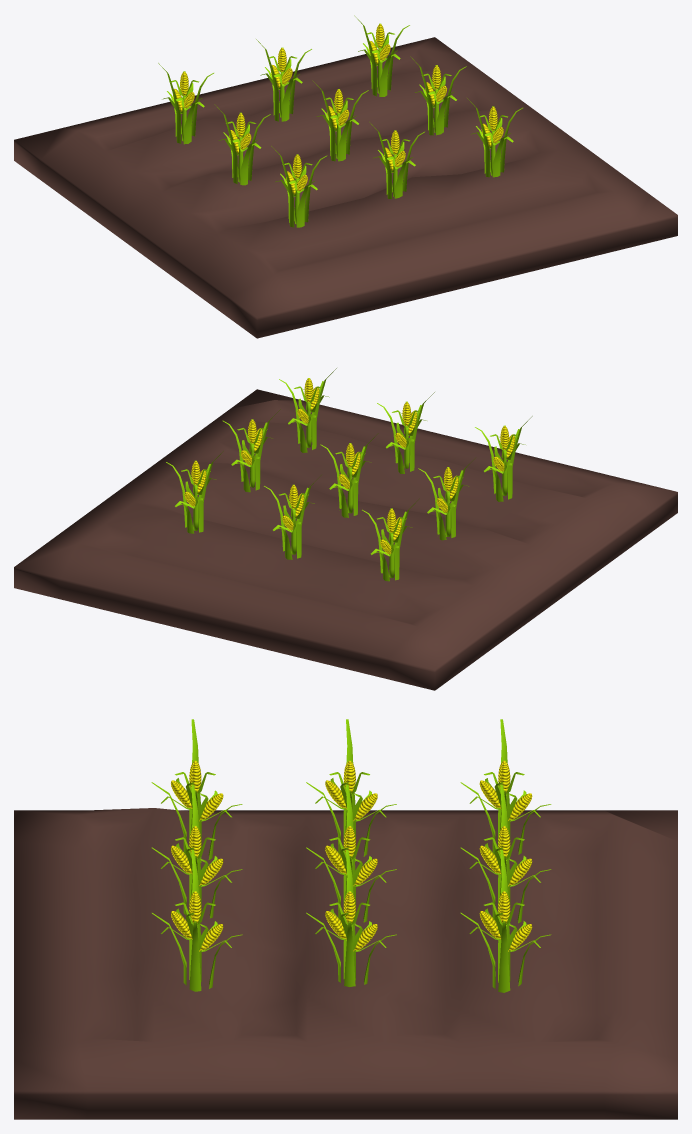
File: TheCornFarm.fbx
The picture shows the model from 3 angles, top to bottom: view 1: azimuth 30°, elevation 25°; view 2: azimuth 150°, elevation 25°; view 3: azimuth 270°, elevation 25°; orthographic projection. The views are drawn at different scales.
Visible parts, largest first — view 1: Plane.021, Plane.010; view 2: Plane.021, Plane.010; view 3: Plane.021, Plane.010.
Part boxes in pixels (x1=…): Plane.021: x1=14, y1=37, x2=677, y2=338; Plane.010: x1=158, y1=15, x2=522, y2=227; Plane.021: x1=14, y1=389, x2=677, y2=690; Plane.010: x1=166, y1=368, x2=532, y2=581; Plane.021: x1=14, y1=808, x2=677, y2=1119; Plane.010: x1=151, y1=719, x2=551, y2=992.
Bounding box in the file's own units: 2457 × 704 × 2457.
